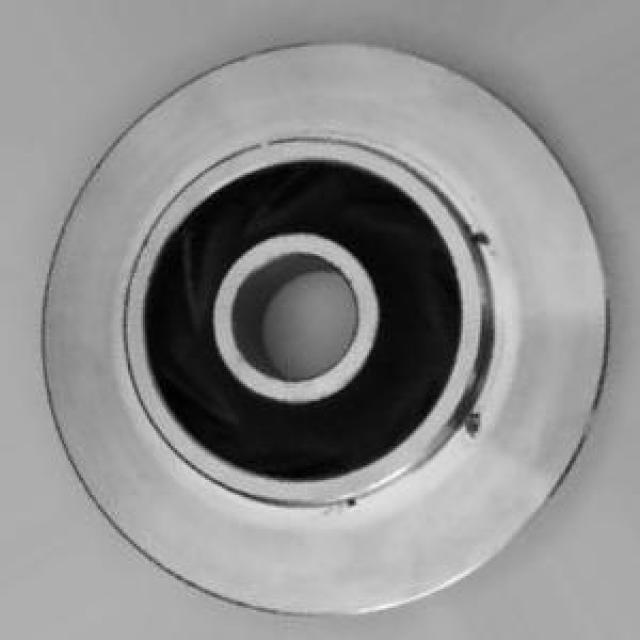Defect: (459, 217, 496, 258), (456, 403, 491, 443), (335, 492, 367, 514)
